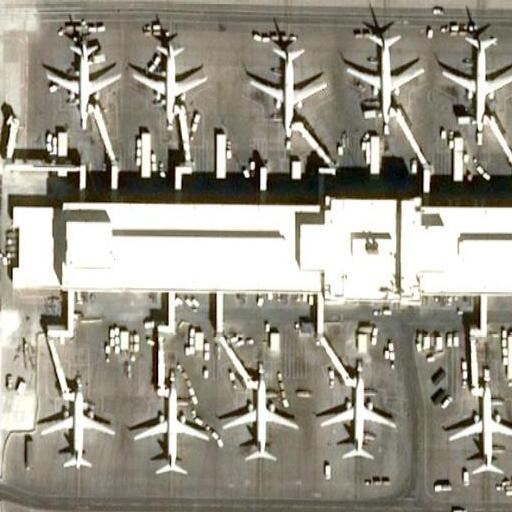Aircraft: (241, 32, 331, 136), (339, 22, 424, 128), (430, 27, 512, 135), (125, 381, 215, 475), (219, 373, 303, 467), (40, 31, 122, 125), (130, 30, 209, 127), (318, 376, 400, 459), (40, 383, 119, 465), (445, 384, 512, 478)
